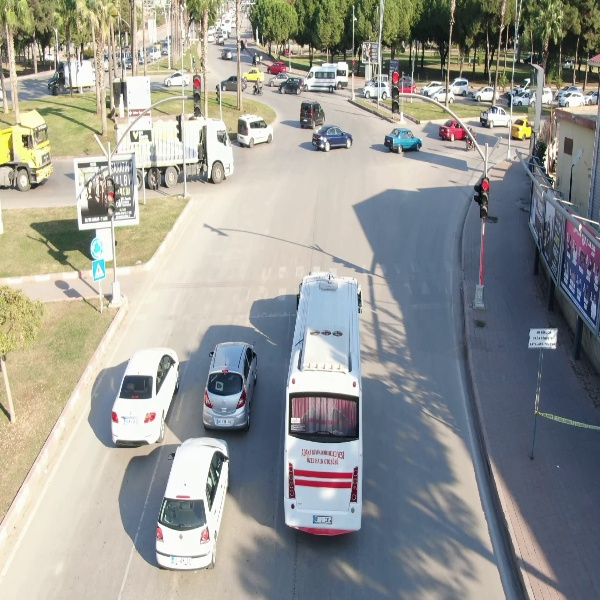car: (280, 270, 366, 533), (152, 434, 232, 574), (105, 343, 183, 446), (200, 339, 260, 435), (234, 112, 276, 147), (312, 123, 353, 154), (384, 126, 422, 158), (298, 98, 328, 130), (477, 104, 513, 128), (276, 73, 308, 97), (358, 77, 391, 99), (438, 119, 468, 142), (163, 67, 195, 88), (472, 82, 498, 106), (218, 73, 246, 95), (430, 86, 457, 105)
